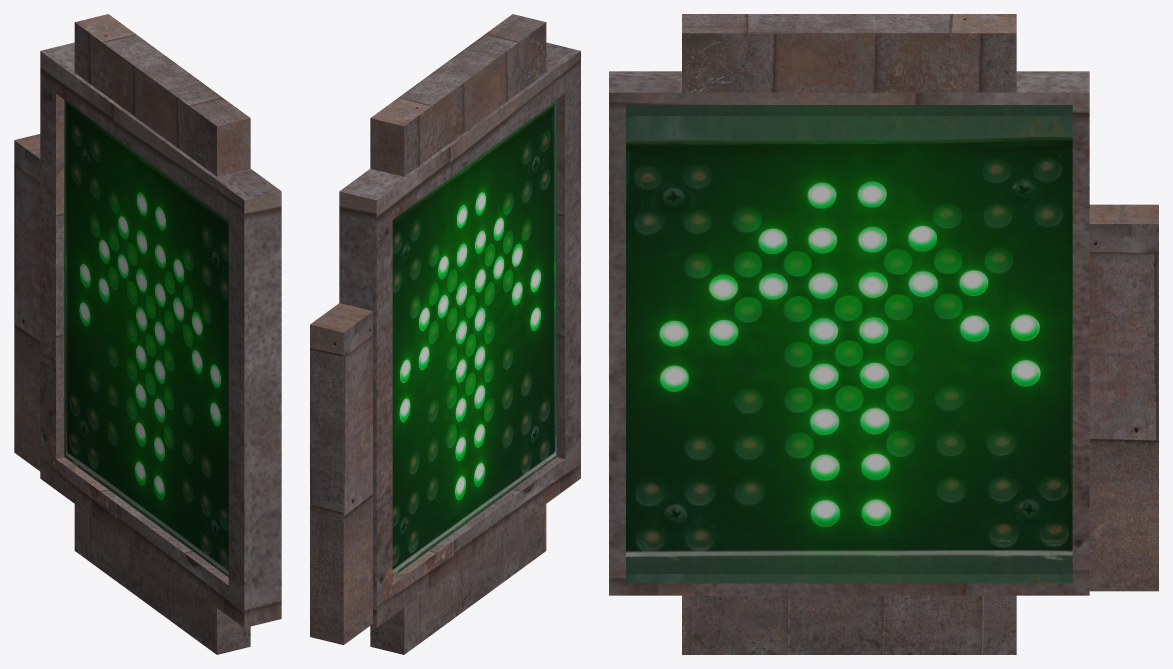
The model's file is SM_LDFest_27_UpSign.fbx.
The picture shows the model from 3 angles, left to right: view 1: azimuth 30°, elevation 25°; view 2: azimuth 150°, elevation 25°; view 3: azimuth 270°, elevation 25°; orthographic projection. The views are drawn at different scales.
Visible parts, largest first — view 1: SM_LDFest_27_UpSign; view 2: SM_LDFest_27_UpSign; view 3: SM_LDFest_27_UpSign.
Boxes of the visible parts, x1,y1,x2,y2 form: SM_LDFest_27_UpSign: (14,14,281,654); SM_LDFest_27_UpSign: (310,14,580,654); SM_LDFest_27_UpSign: (609,14,1158,654).
Size of the model in its own units: 9.67 by 131 by 105.
